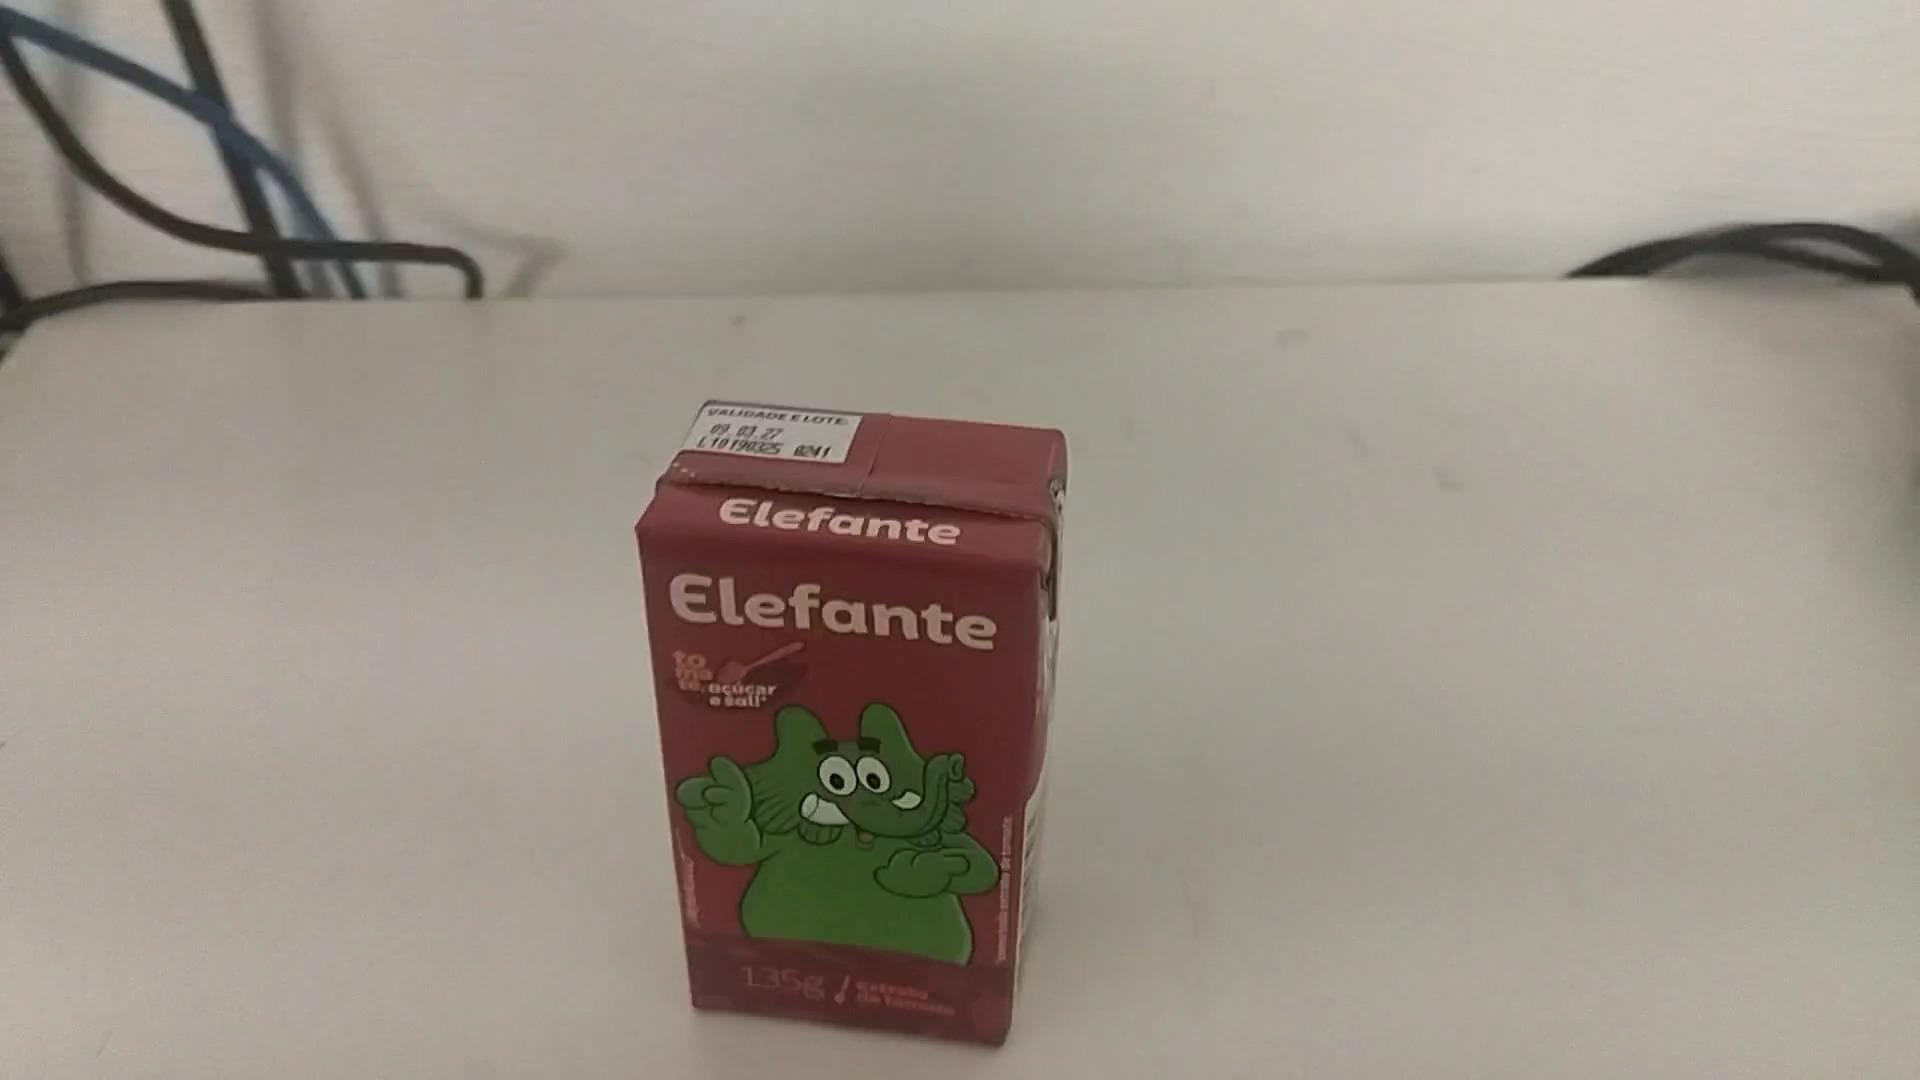tomate: (629, 392, 1084, 1042)
